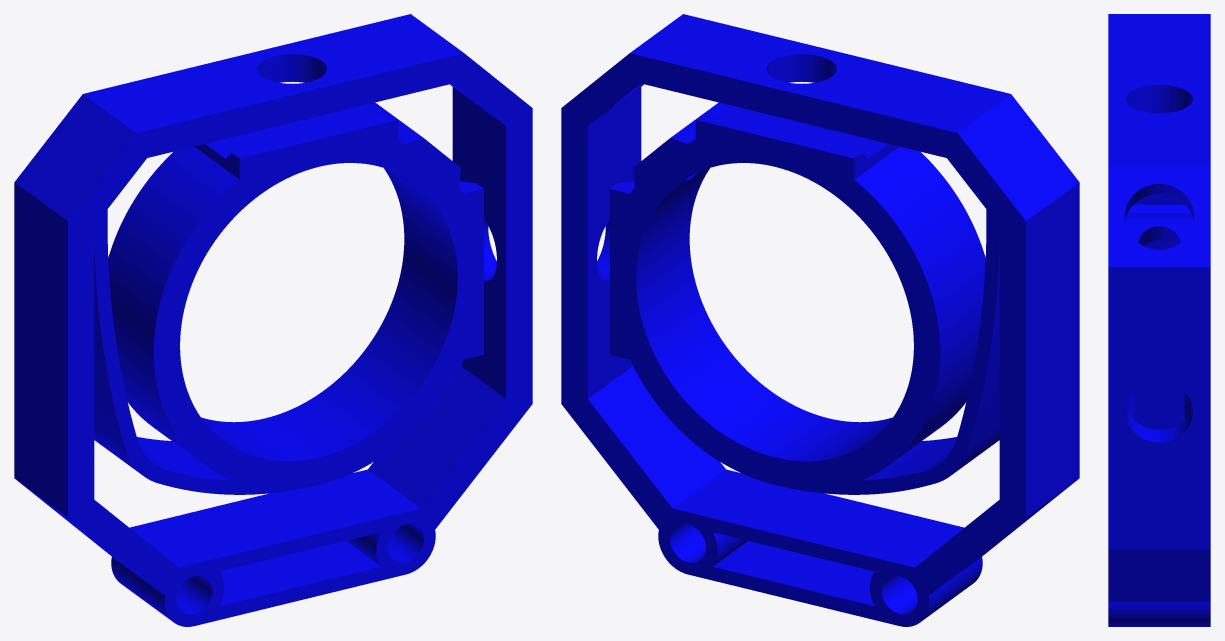
Rendered from Cube 1x1 V5_SM1 Lense Holder (V5).obj.
The picture shows the model from 3 angles, left to right: view 1: azimuth 30°, elevation 25°; view 2: azimuth 150°, elevation 25°; view 3: azimuth 270°, elevation 25°; orthographic projection. The views are drawn at different scales.
Visible parts, largest first — view 1: Solid1:20; view 2: Solid1:20; view 3: Solid1:20.
Part boxes in pixels (bbox=[...]): Solid1:20: bbox=[14, 14, 532, 626]; Solid1:20: bbox=[561, 14, 1079, 626]; Solid1:20: bbox=[1108, 14, 1210, 626].
Size of the model in its own units: 43.94 by 45.83 by 8.75.
